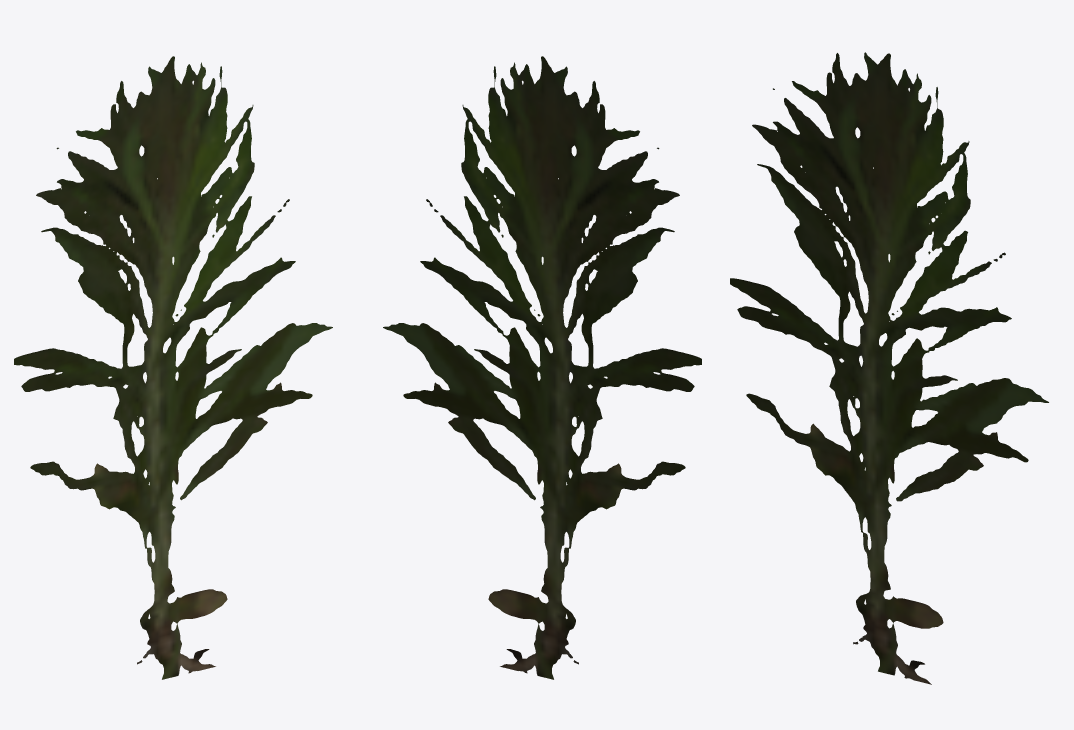
File: swamp_weed_1.FBX
3 renders of one model, left to right at view 1: azimuth 30°, elevation 25°; view 2: azimuth 150°, elevation 25°; view 3: azimuth 330°, elevation 25°, orthographic.
Visible parts, largest first — view 1: swamp_weed_1; view 2: swamp_weed_1; view 3: swamp_weed_1.
Boxes of the visible parts, bbox=[...] form: swamp_weed_1: bbox=[14, 56, 332, 679]; swamp_weed_1: bbox=[383, 56, 701, 679]; swamp_weed_1: bbox=[730, 52, 1048, 684].
Size of the model in its own units: 84.32 by 152 by 3.77e-05.
